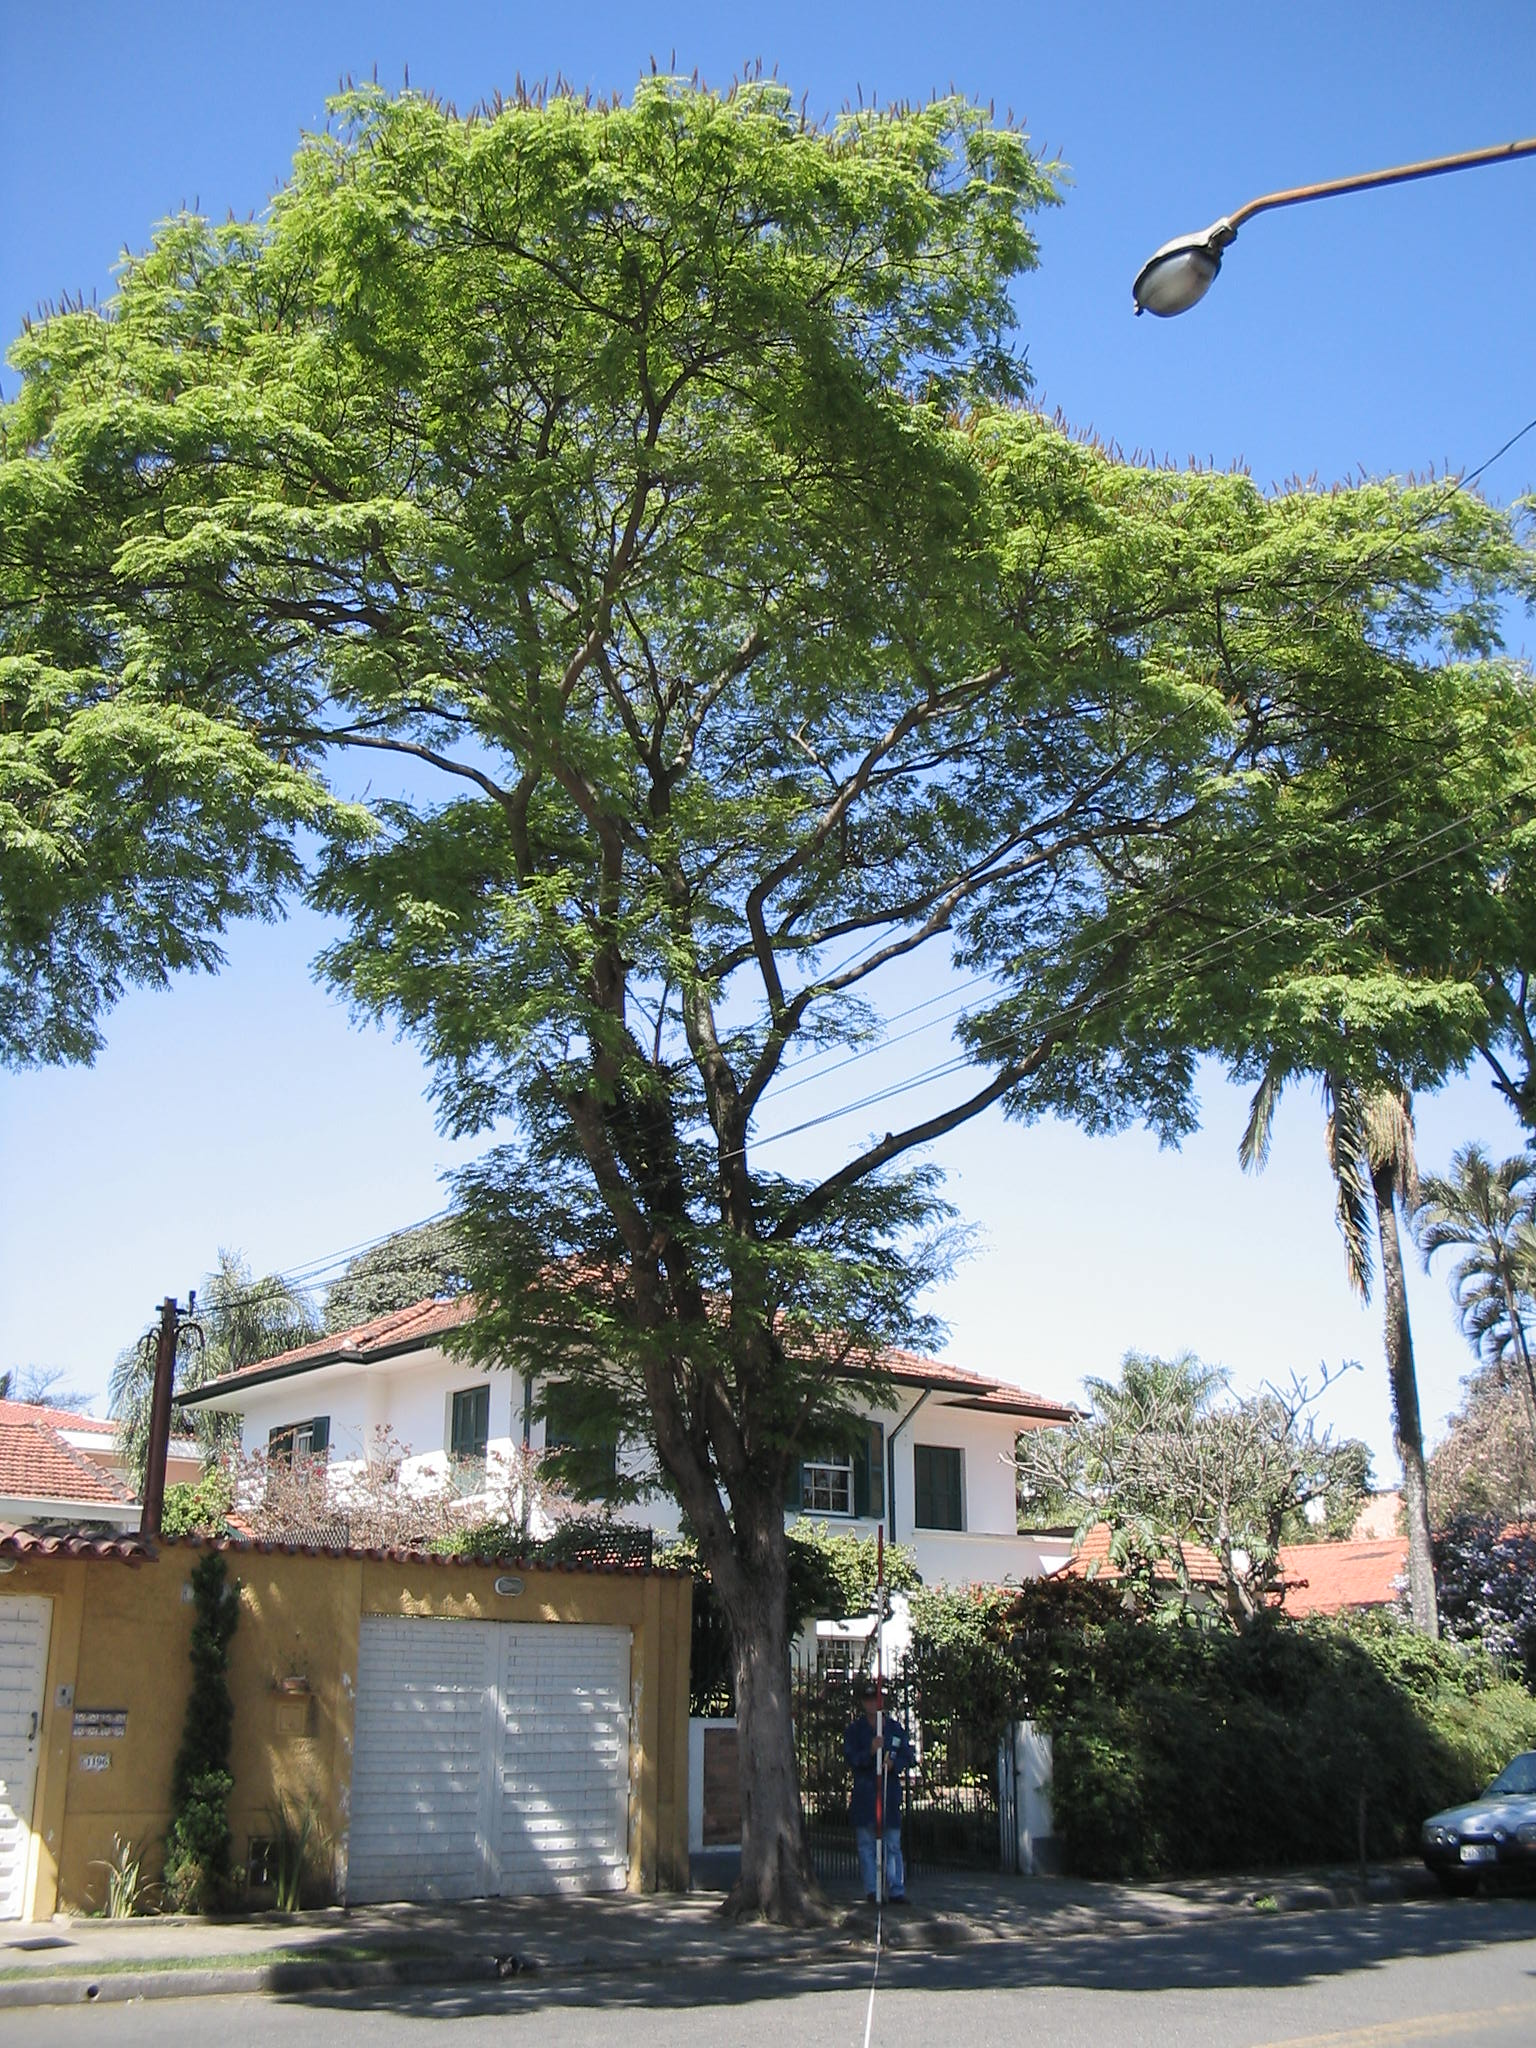crown: (11, 61, 1521, 1182)
stem: (670, 1563, 857, 1924)
stick: (841, 1521, 915, 1913)
tree: (2, 53, 1528, 1932)
